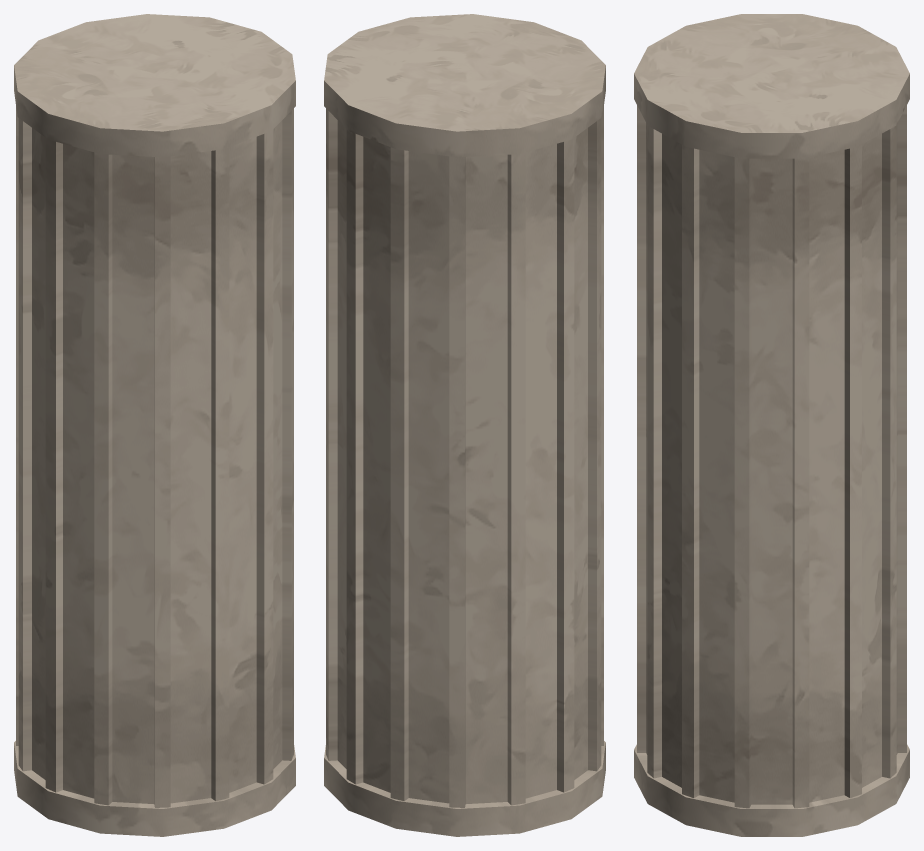
The model's file is kolumna_czesc_srodek.obj.
3 renders of one model, left to right at view 1: azimuth 30°, elevation 25°; view 2: azimuth 150°, elevation 25°; view 3: azimuth 270°, elevation 25°, orthographic.
Visible parts, largest first — view 1: Cylinder.021; view 2: Cylinder.021; view 3: Cylinder.021.
Part boxes in pixels (<box>): Cylinder.021: <box>14,14,295,836</box>; Cylinder.021: <box>324,14,605,836</box>; Cylinder.021: <box>634,14,909,836</box>.
Bounding box in the file's own units: 4.85 × 13.39 × 4.76.
1 material, 1 textured.
